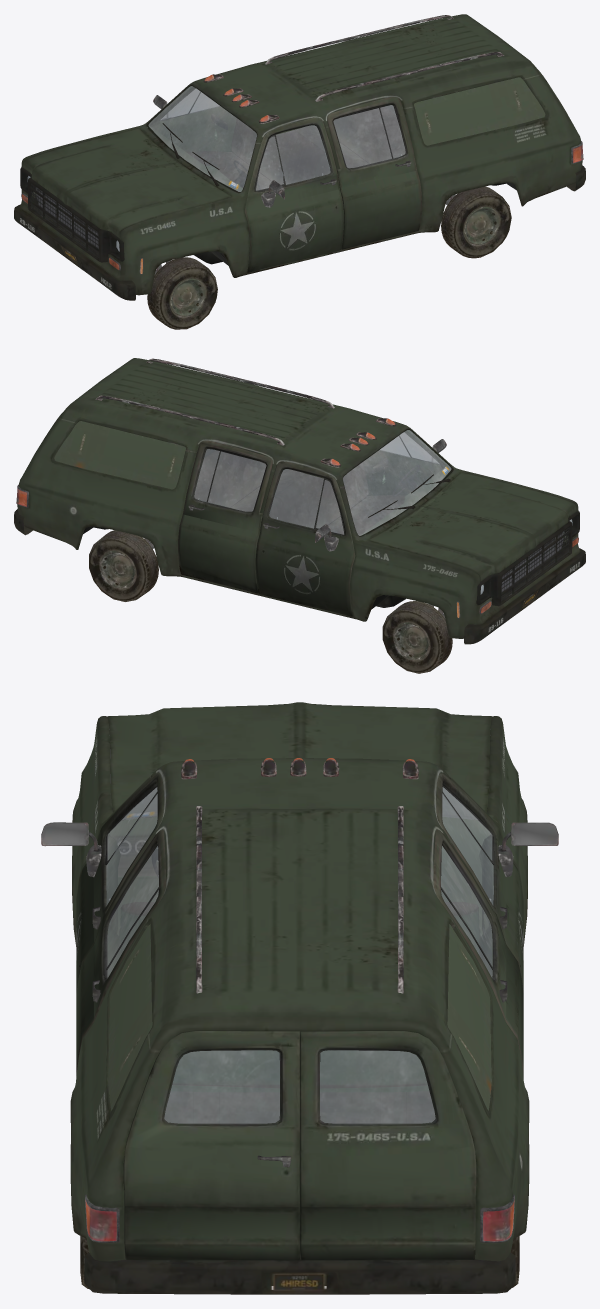
Rendered from truck.glb.
3 renders of one model, top to bottom at view 1: azimuth 30°, elevation 25°; view 2: azimuth 150°, elevation 25°; view 3: azimuth 270°, elevation 25°, orthographic. The views are drawn at different scales.
Visible parts, largest first — view 1: defaultMaterial (×3); view 2: defaultMaterial (×3); view 3: defaultMaterial (×3).
Boxes of the visible parts, x1=… form: defaultMaterial (×3): x1=14, y1=14, x2=585, y2=329; defaultMaterial (×3): x1=14, y1=358, x2=585, y2=673; defaultMaterial (×3): x1=41, y1=702, x2=558, y2=1294.
Bounding box in the file's own units: 4.91 × 1.74 × 2.32.
Materials: 3 (3 with a texture image).
